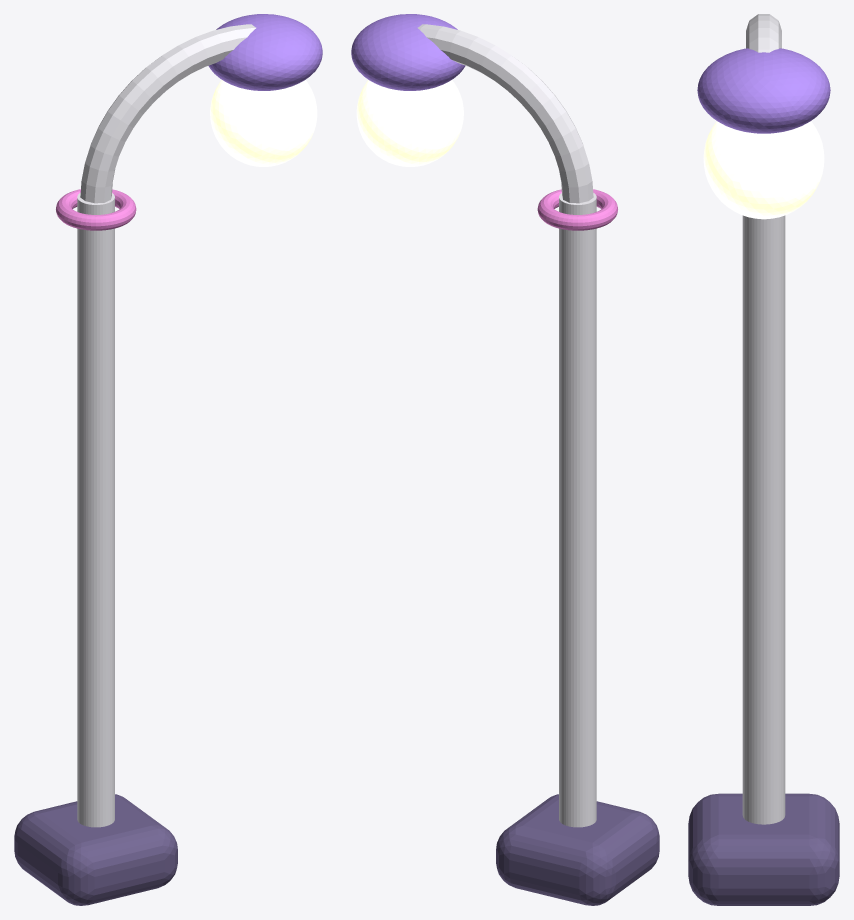
File: street-lamp.glb
The picture shows the model from 3 angles, left to right: view 1: azimuth 30°, elevation 25°; view 2: azimuth 150°, elevation 25°; view 3: azimuth 270°, elevation 25°; orthographic projection. The views are drawn at different scales.
Visible parts, largest first — view 1: pole, base, hook, light_globe, cap, ring; view 2: pole, base, hook, light_globe, cap, ring; view 3: pole, base, light_globe, cap, hook.
Part boxes in pixels (x1,y1,x2,y2): pole: (77,193,114,827); base: (14,794,177,905); hook: (80,24,256,203); light_globe: (210,80,317,166); cap: (208,14,322,90); ring: (56,189,136,230); pole: (559,193,596,827); base: (496,794,659,905); hook: (417,24,593,203); light_globe: (356,80,463,166); cap: (351,14,465,90); ring: (537,189,617,230); pole: (742,215,785,824); base: (688,793,839,905); light_globe: (703,121,824,219); cap: (697,48,830,133); hook: (746,14,781,52).
Size of the model in its own units: 1.19 by 3.36 by 0.5.
